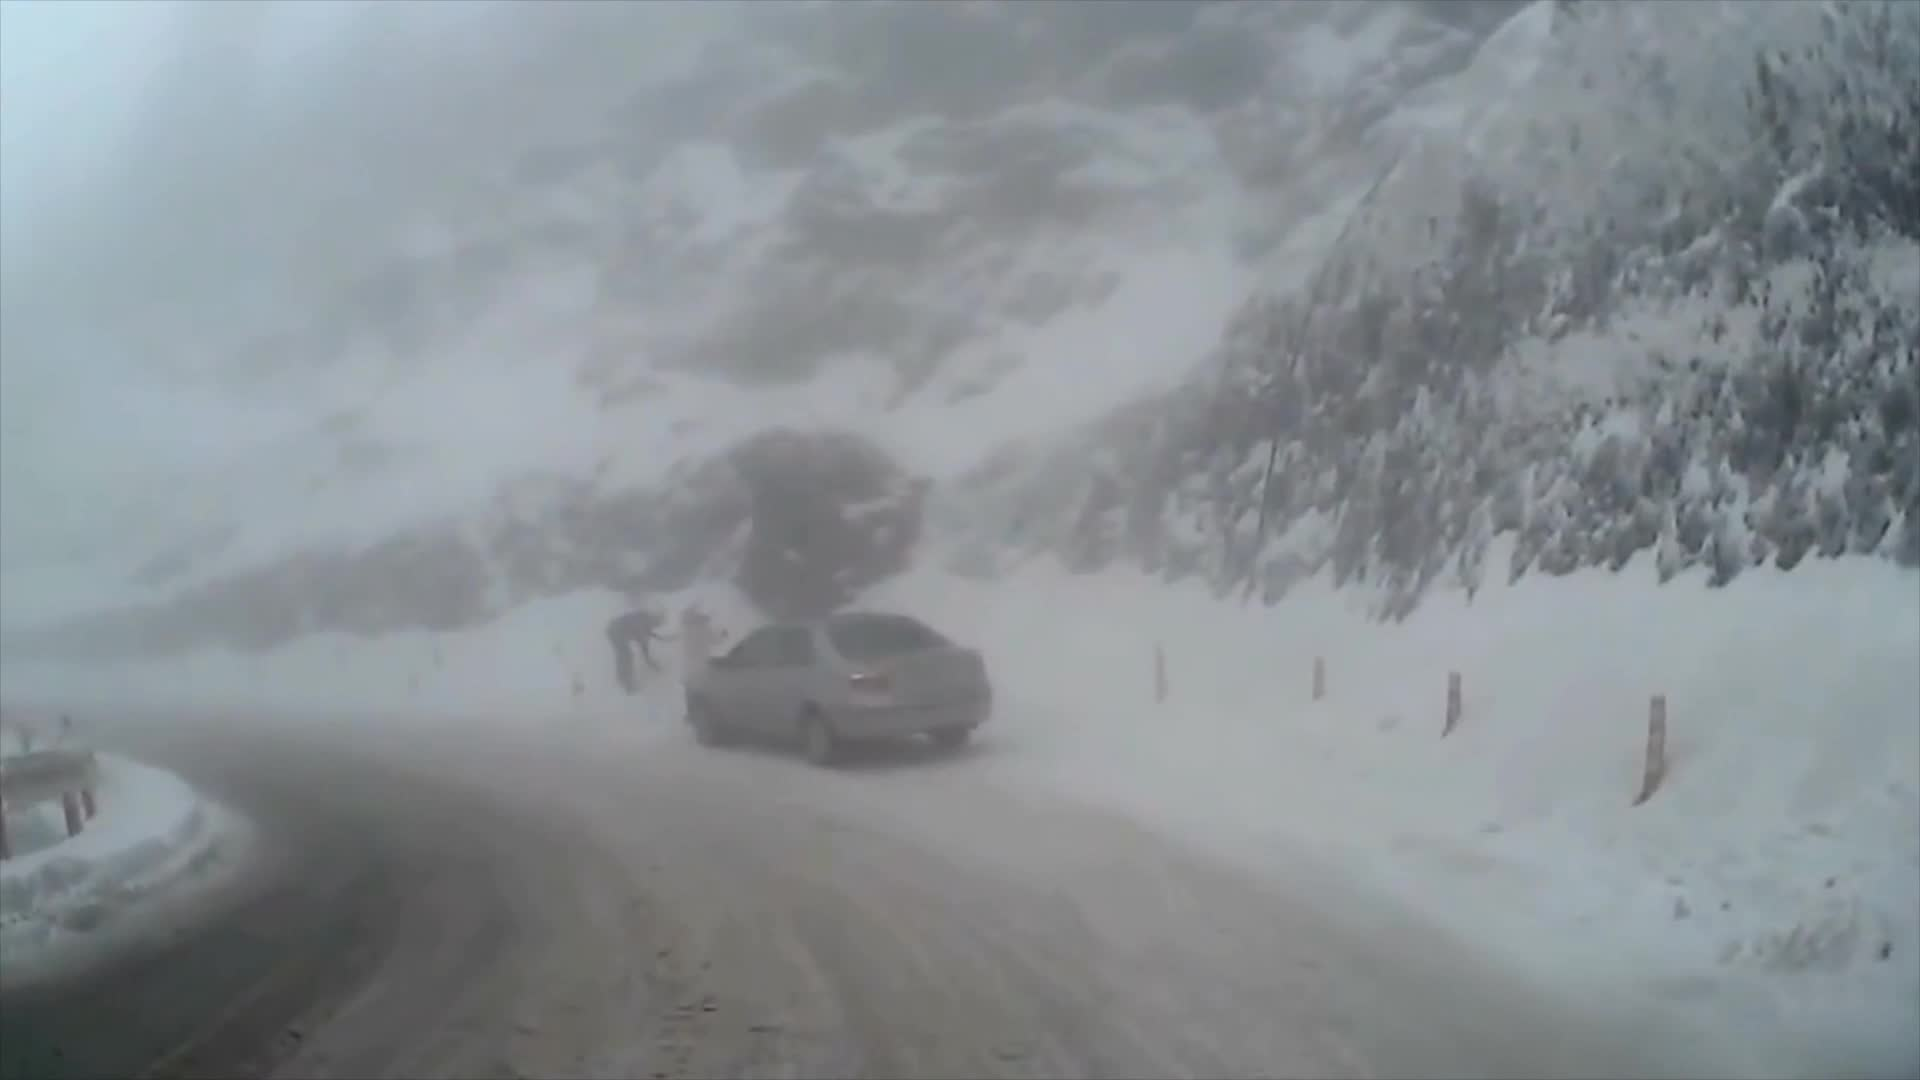pedestrian: (672, 598, 734, 724), (606, 610, 665, 695)
vehicle: (681, 609, 990, 766)
